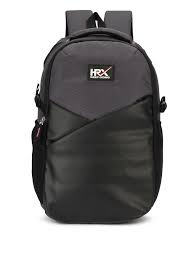backpack: (31, 9, 167, 224)
